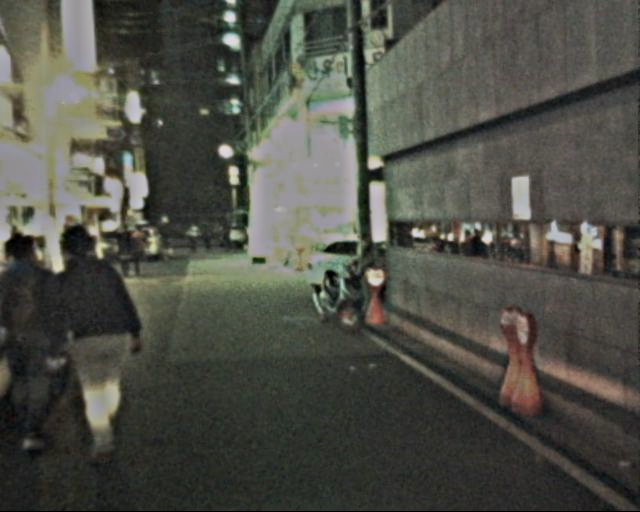person: (45, 222, 150, 469), (185, 220, 236, 253), (130, 222, 156, 277), (115, 219, 137, 279), (156, 212, 179, 268)
